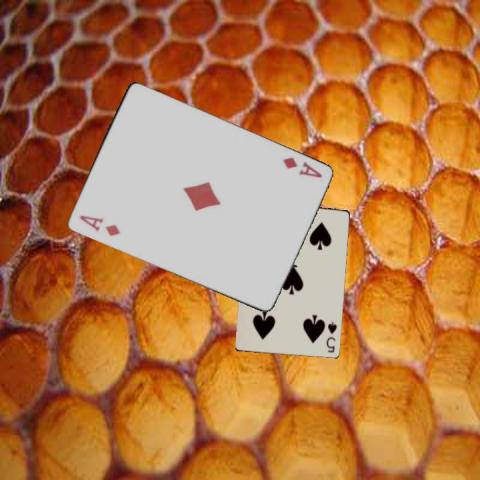5s: (323, 319, 339, 354)
Ad: (76, 212, 122, 238), (280, 154, 324, 179)
